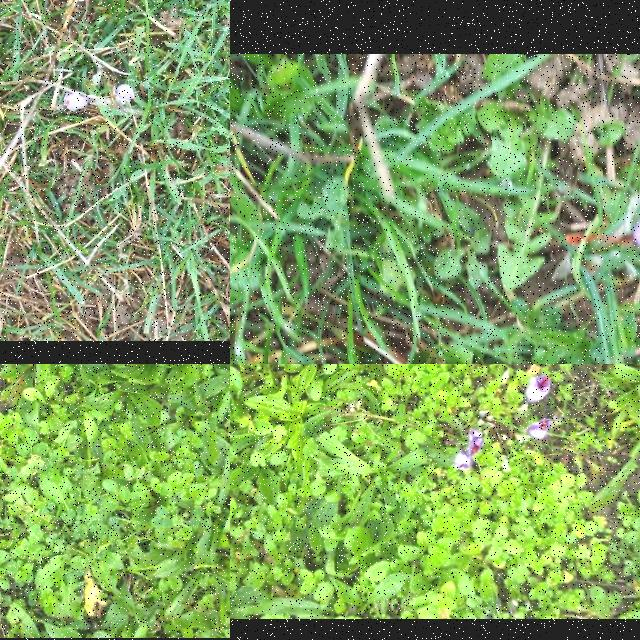flower: (565, 205, 640, 277), (526, 374, 550, 406), (528, 419, 552, 441), (64, 92, 88, 110), (116, 85, 136, 102)
overlap: (454, 430, 484, 470)
